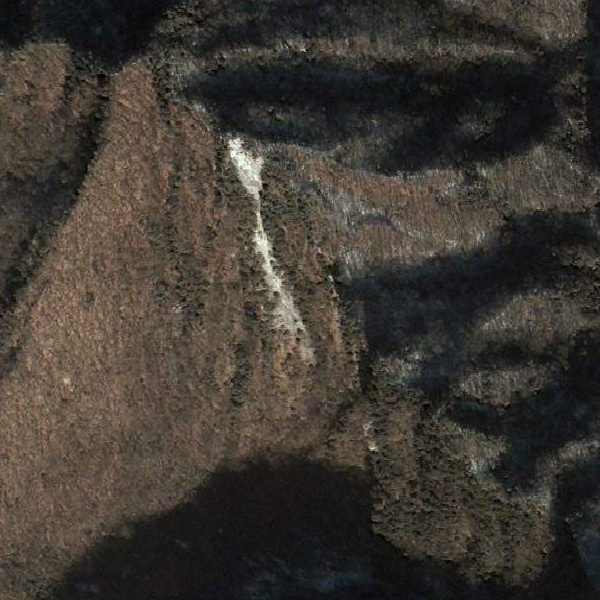slope: (224, 136, 313, 363)
